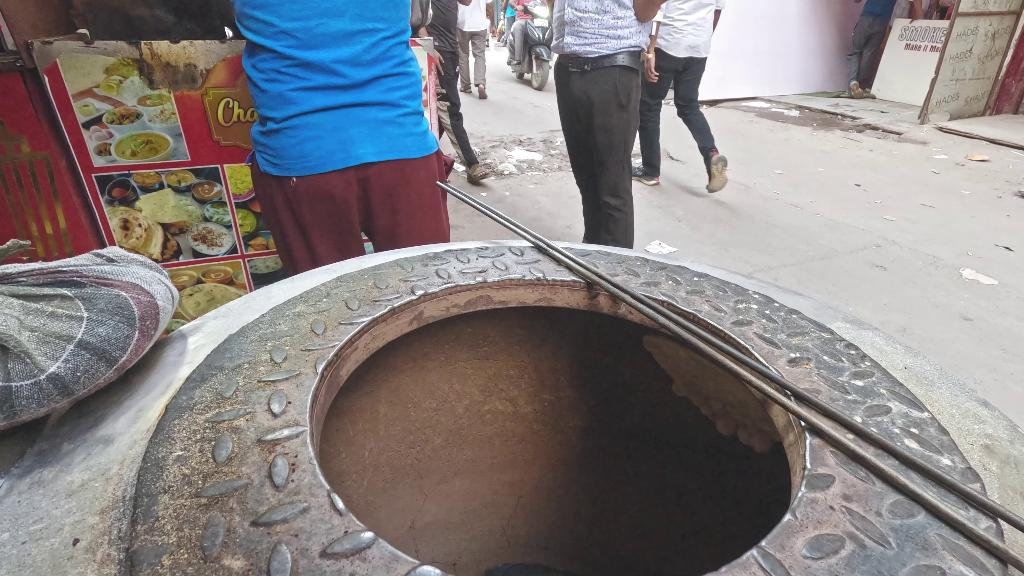garbage: (957, 253, 1001, 293), (647, 235, 673, 257)
